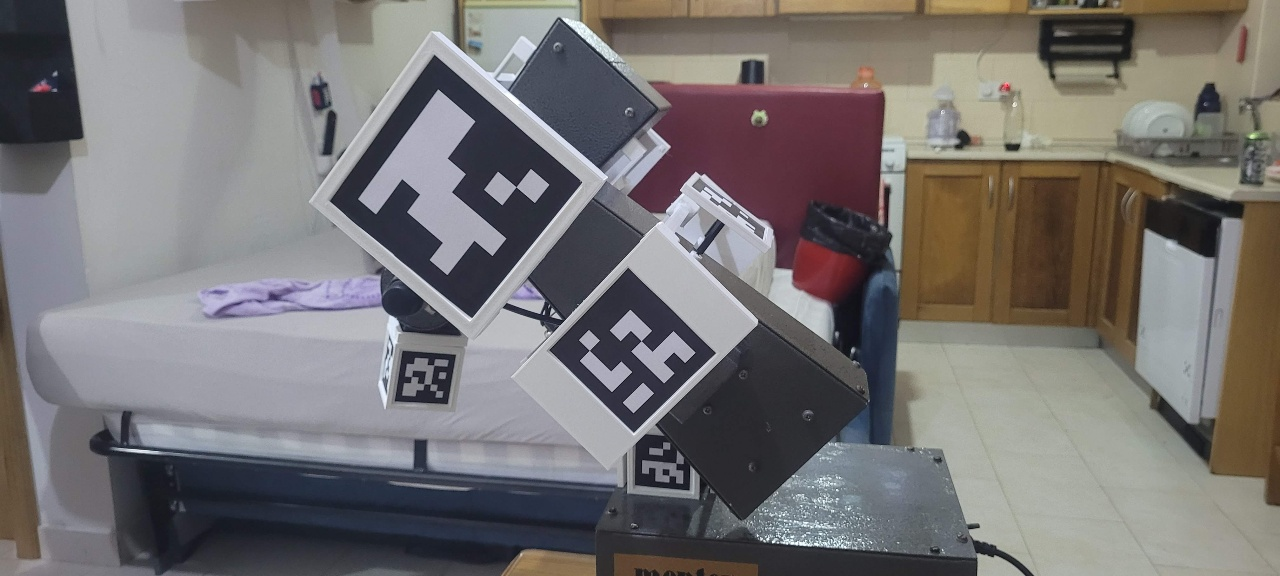Robot: (307, 15, 872, 522)
